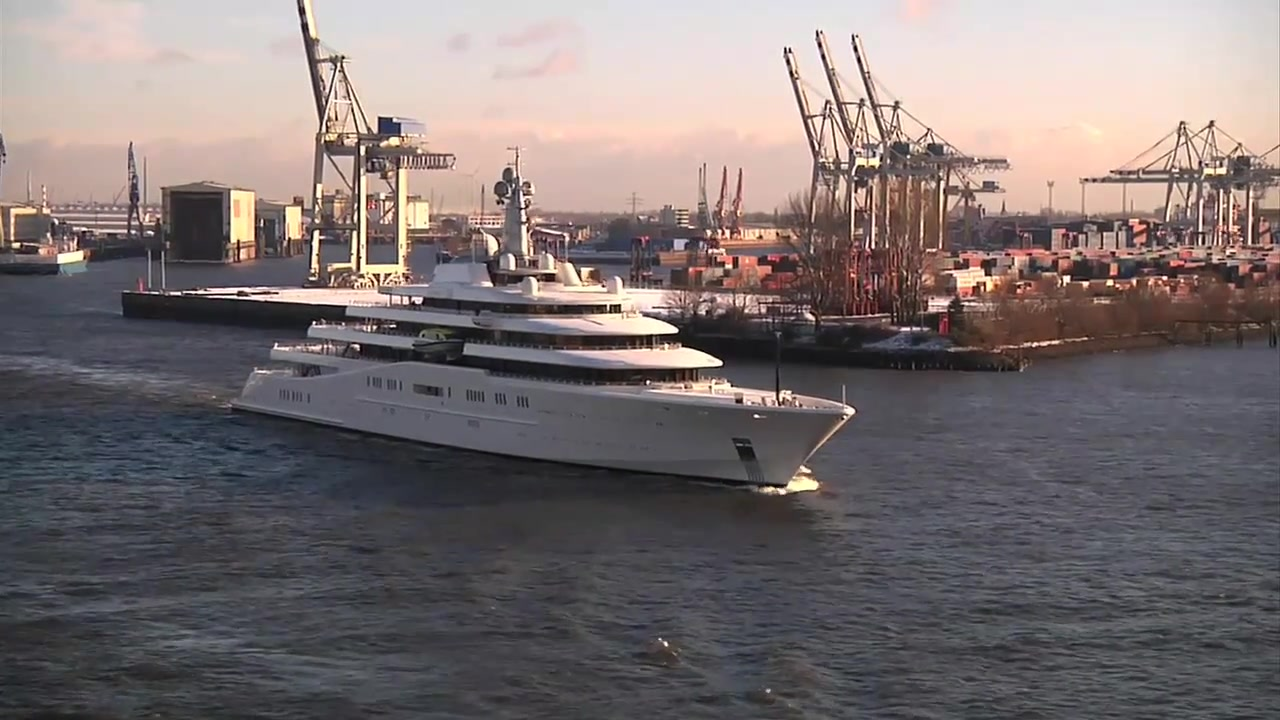boat: (224, 141, 859, 495)
